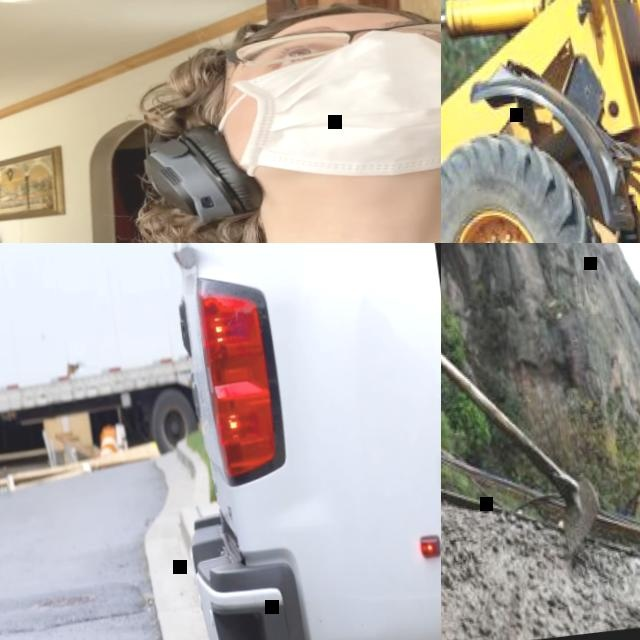Mask: (193, 16, 441, 198)
NO-Hardhat: (172, 0, 431, 48)
Person: (0, 0, 441, 243), (441, 243, 487, 620)
Safety Cone: (97, 425, 120, 458)
machinery: (441, 0, 640, 243)
vehicle: (81, 243, 441, 640)
